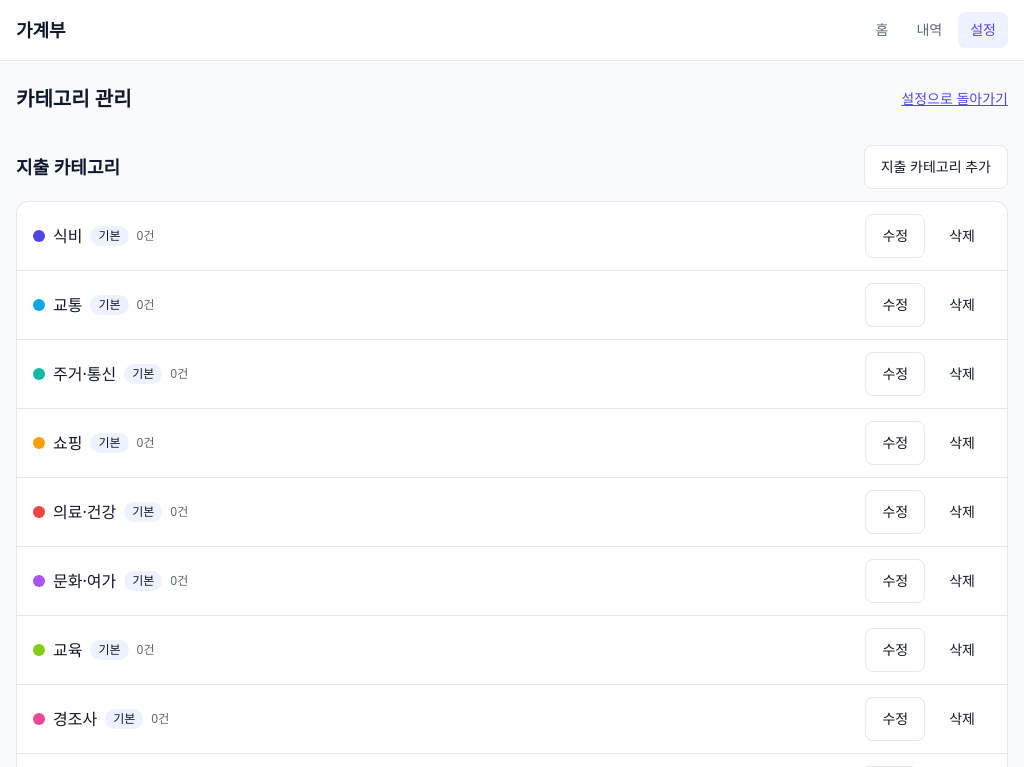
Test: 카테고리 변경 실패 › 삭제 중 저장에 실패하면 오류 알림을 보여 주고 카테고리는 남는다
This screenshot has width=1024, height=767.
Expected: the heading "카테고리 관리" is shown, top-left (16, 85), bottom-right (132, 113)
Click the button with aria-label "지출 카테고리 교통 삭제" at [962, 305], box top-left (933, 283), bottom-right (991, 327)
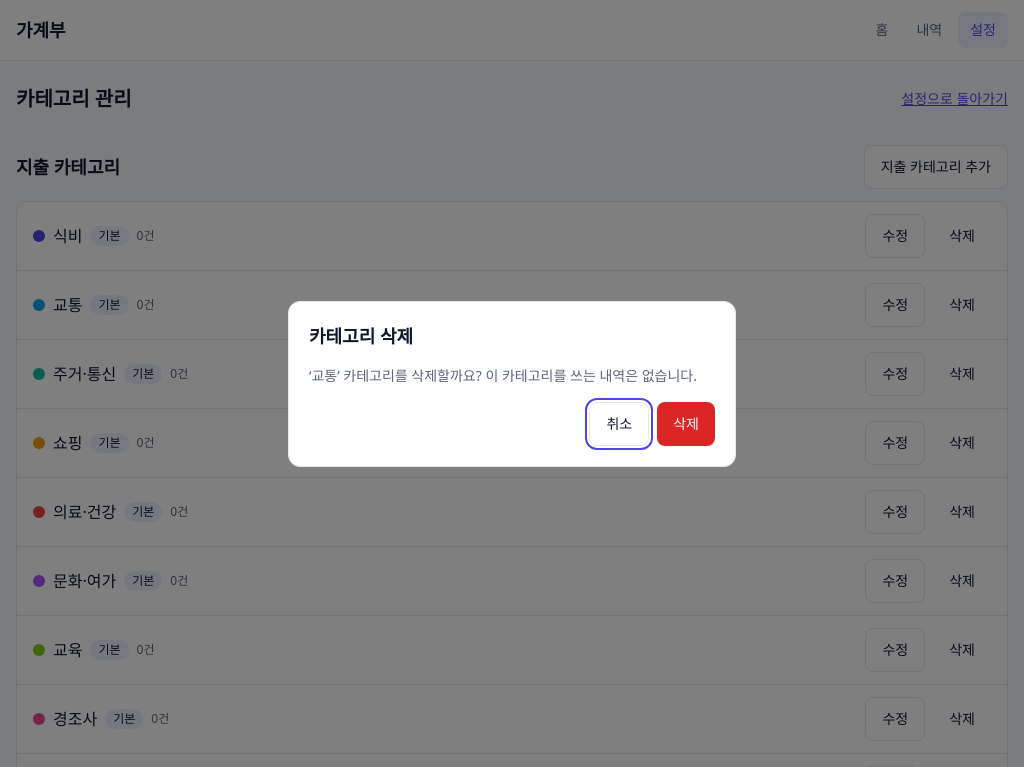
Click the button "삭제" at [686, 424], box top-left (657, 402), bottom-right (715, 446)
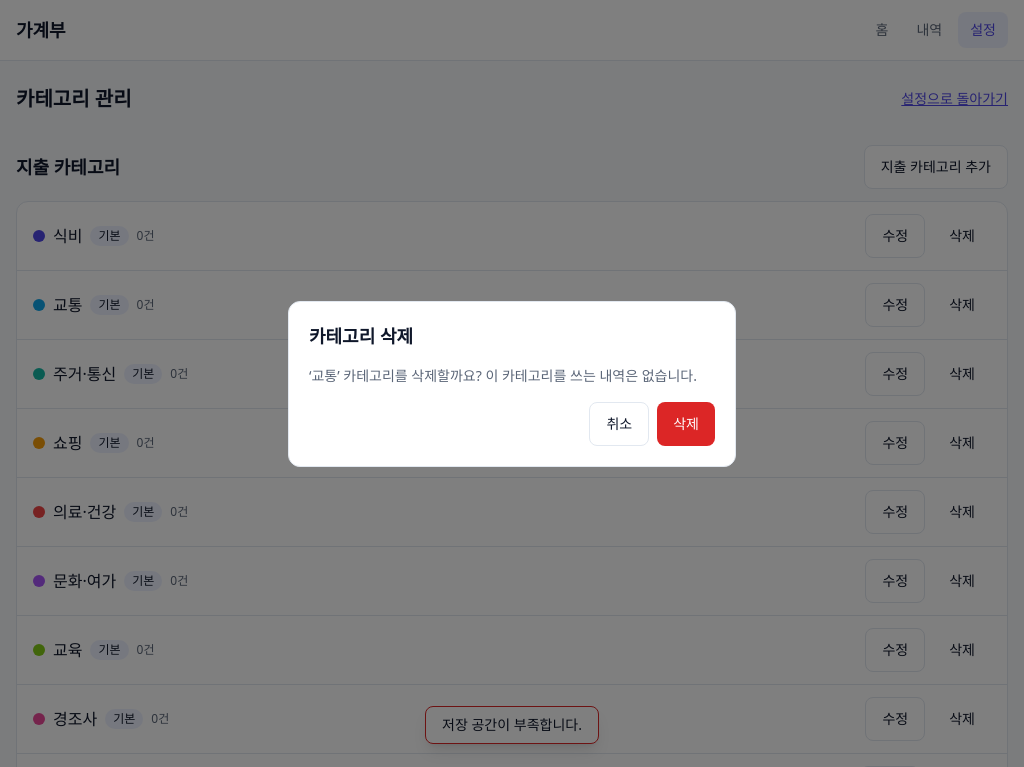
Result: the message reads "저장 공간이 부족합니다." at top-left (442, 715), bottom-right (582, 734)
